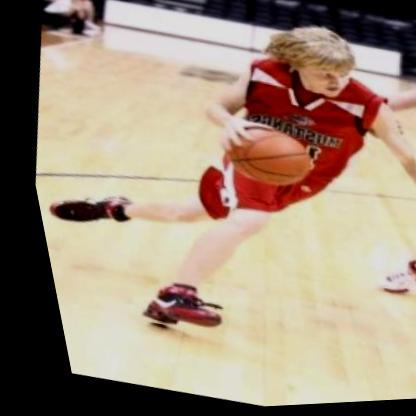basketball: (211, 120, 311, 201)
